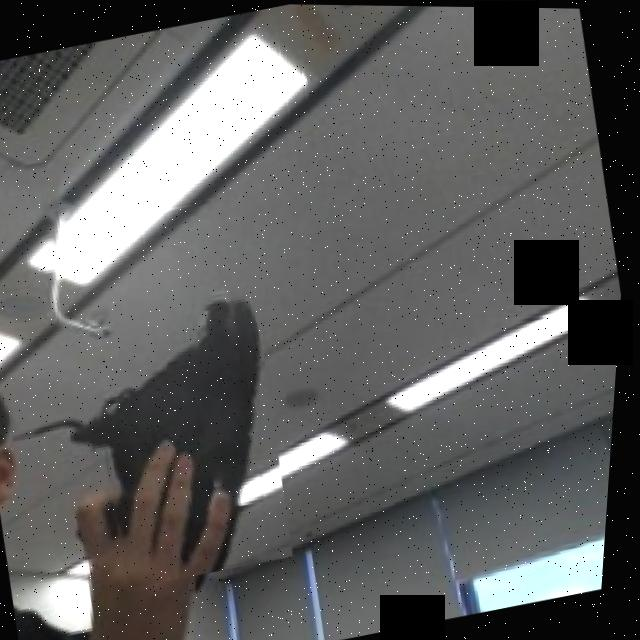shoe: (66, 278, 315, 592)
